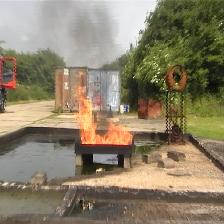fire: (80, 95, 97, 140), (105, 128, 131, 143)
smoke: (71, 11, 117, 56)
